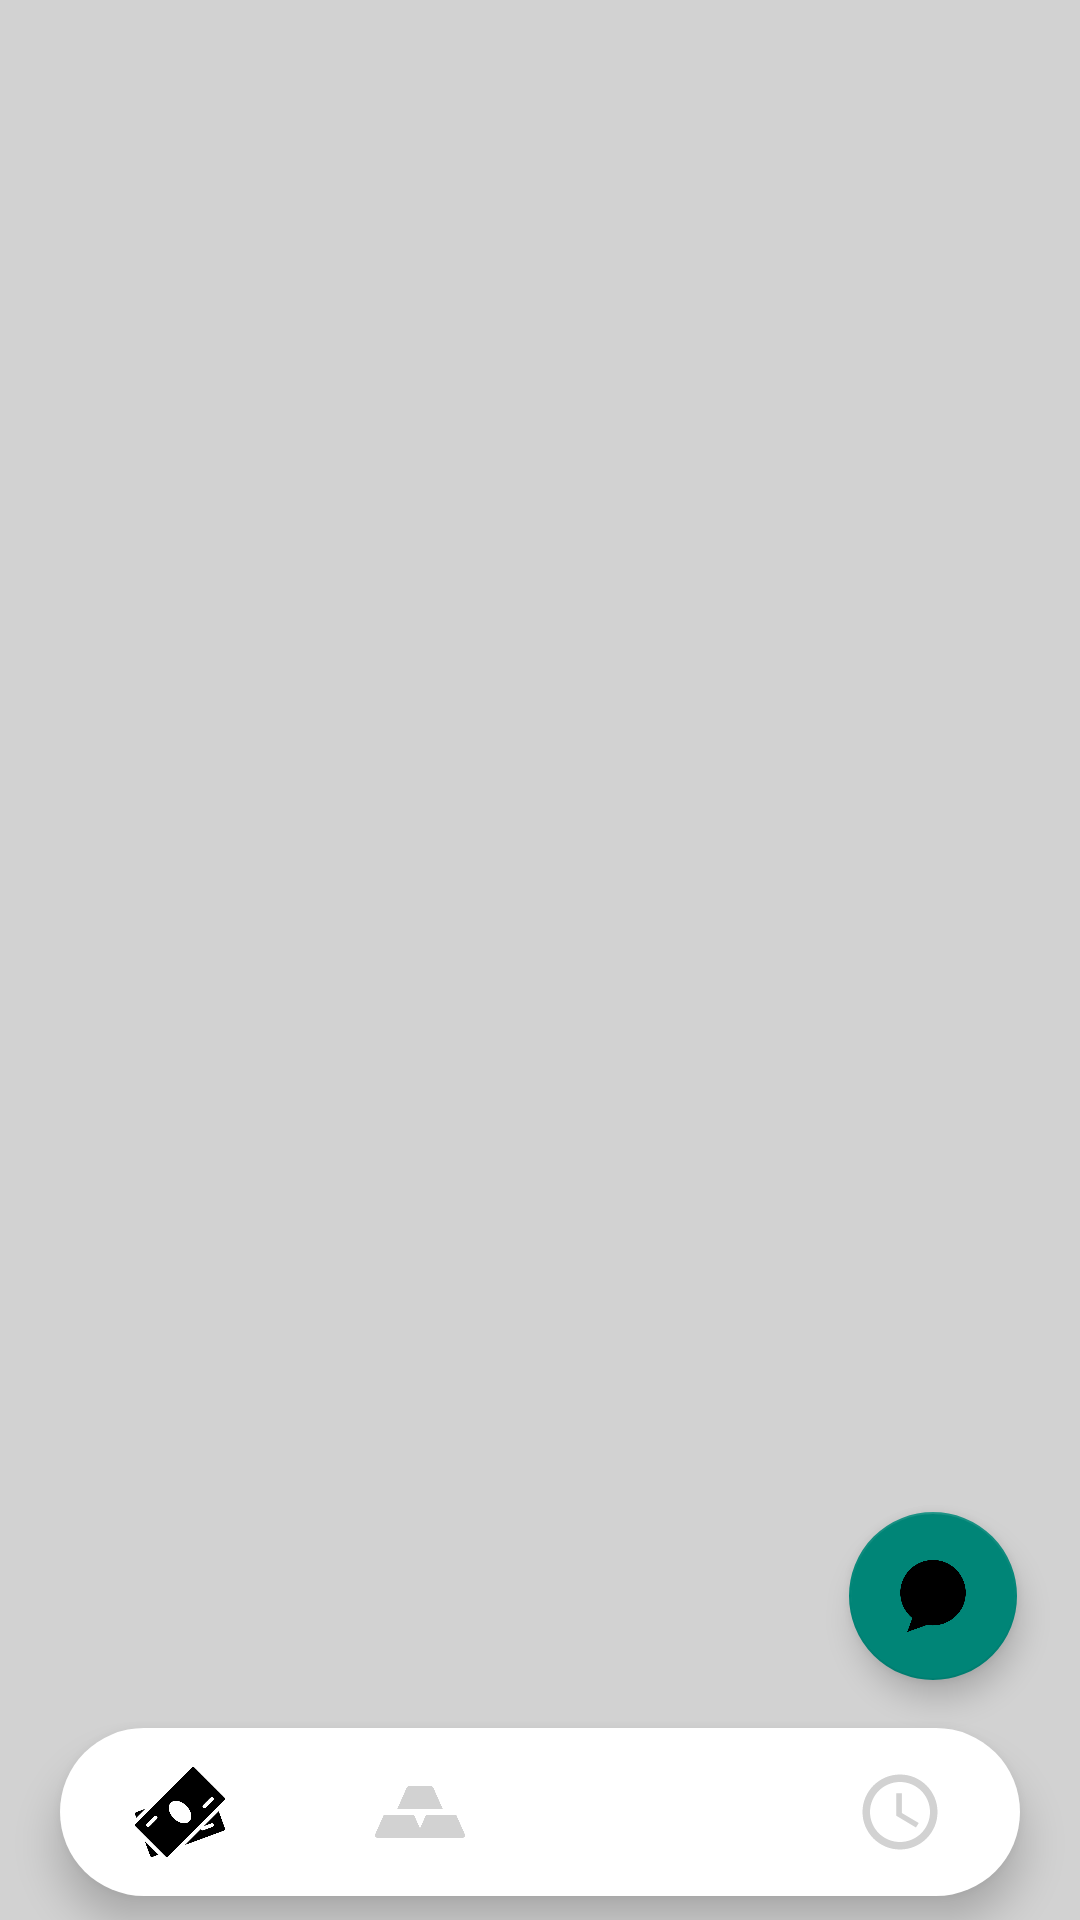

Icon bounding boxes for this 1080w x 1920h phone screenshot, format (x1=x1, y1=y1, x2=x2, y2=y2):
speech bubble: (x1=849, y1=1512, x2=1017, y2=1680)
